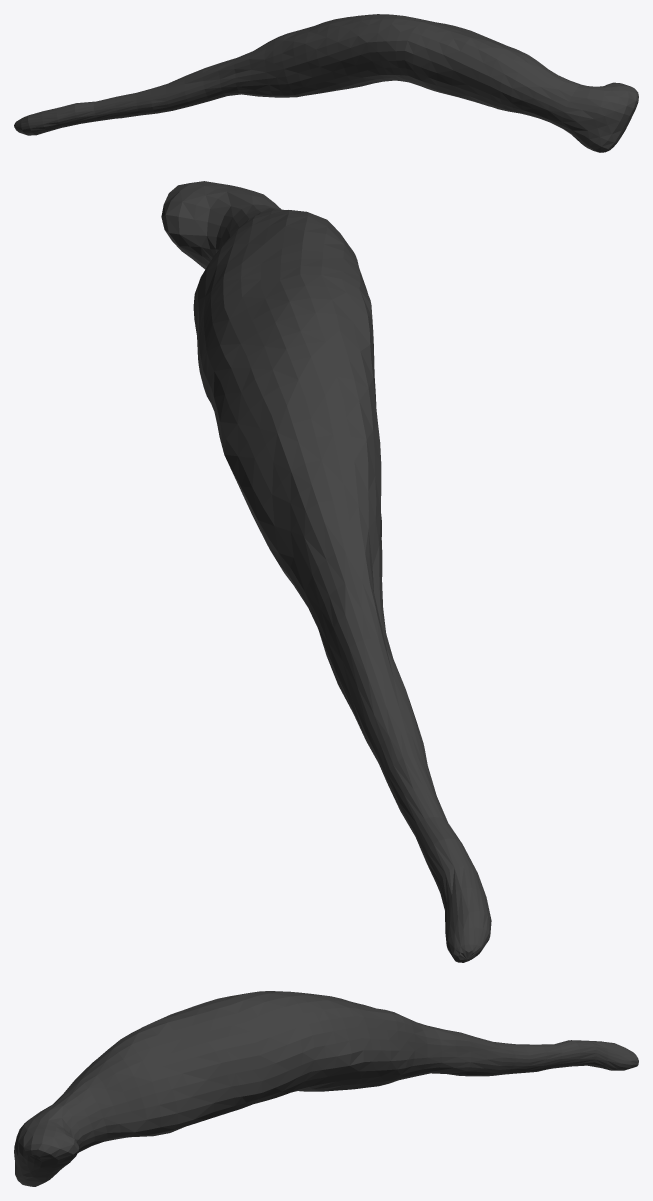
Rendered from TricepsAccessory_1.glb.
3 renders of one model, top to bottom at view 1: azimuth 30°, elevation 25°; view 2: azimuth 150°, elevation 25°; view 3: azimuth 270°, elevation 25°, orthographic. The views are drawn at different scales.
Parts seen in each view (by area): view 1: TricepsAccessory_1; view 2: TricepsAccessory_1; view 3: TricepsAccessory_1.
Boxes of the visible parts, box(x1,y1,x2,y2) form: TricepsAccessory_1: box(14, 14, 638, 152); TricepsAccessory_1: box(161, 181, 491, 962); TricepsAccessory_1: box(14, 991, 638, 1186).
Size of the model in its own units: 0.0245 by 0.0101 by 0.0272.
Materials: 1 (1 with a texture image).
